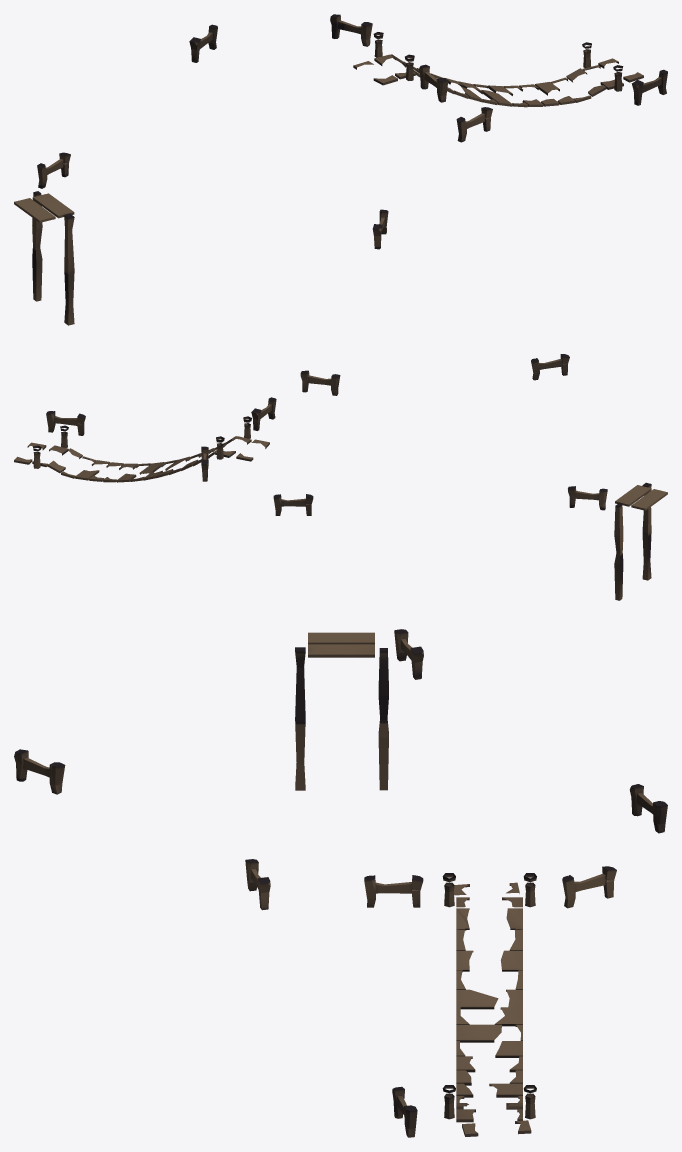
File: Ground_Wood_01.FBX
The picture shows the model from 3 angles, top to bottom: view 1: azimuth 30°, elevation 25°; view 2: azimuth 150°, elevation 25°; view 3: azimuth 270°, elevation 25°; orthographic projection. The views are drawn at different scales.
Visible parts, largest first — view 1: Ground_Wood_01; view 2: Ground_Wood_01; view 3: Ground_Wood_01.
Boxes of the visible parts, x1,y1,x2,y2 form: Ground_Wood_01: [14, 14, 667, 325]; Ground_Wood_01: [14, 354, 667, 600]; Ground_Wood_01: [14, 629, 667, 1137].
Size of the model in its own units: 30.03 by 5.48 by 19.6.
